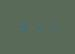eight: (18, 19, 29, 33)
one: (31, 19, 42, 34), (43, 20, 54, 34)
